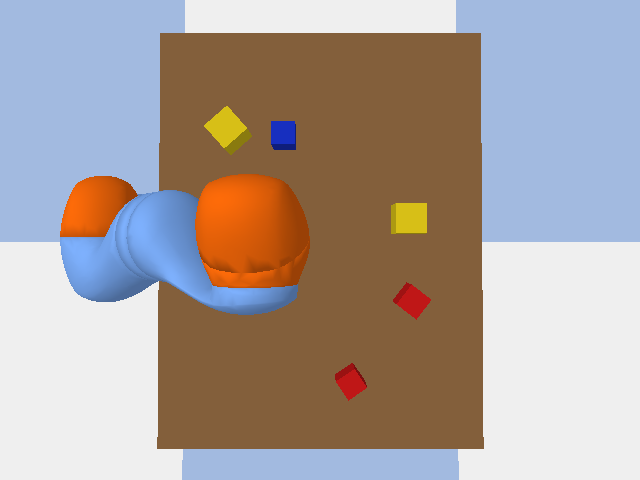blue_obj: (271, 121, 295, 149)
red_obj: (393, 282, 430, 319), (335, 363, 366, 400)
yellow_obj: (204, 106, 251, 154), (391, 203, 426, 233)
